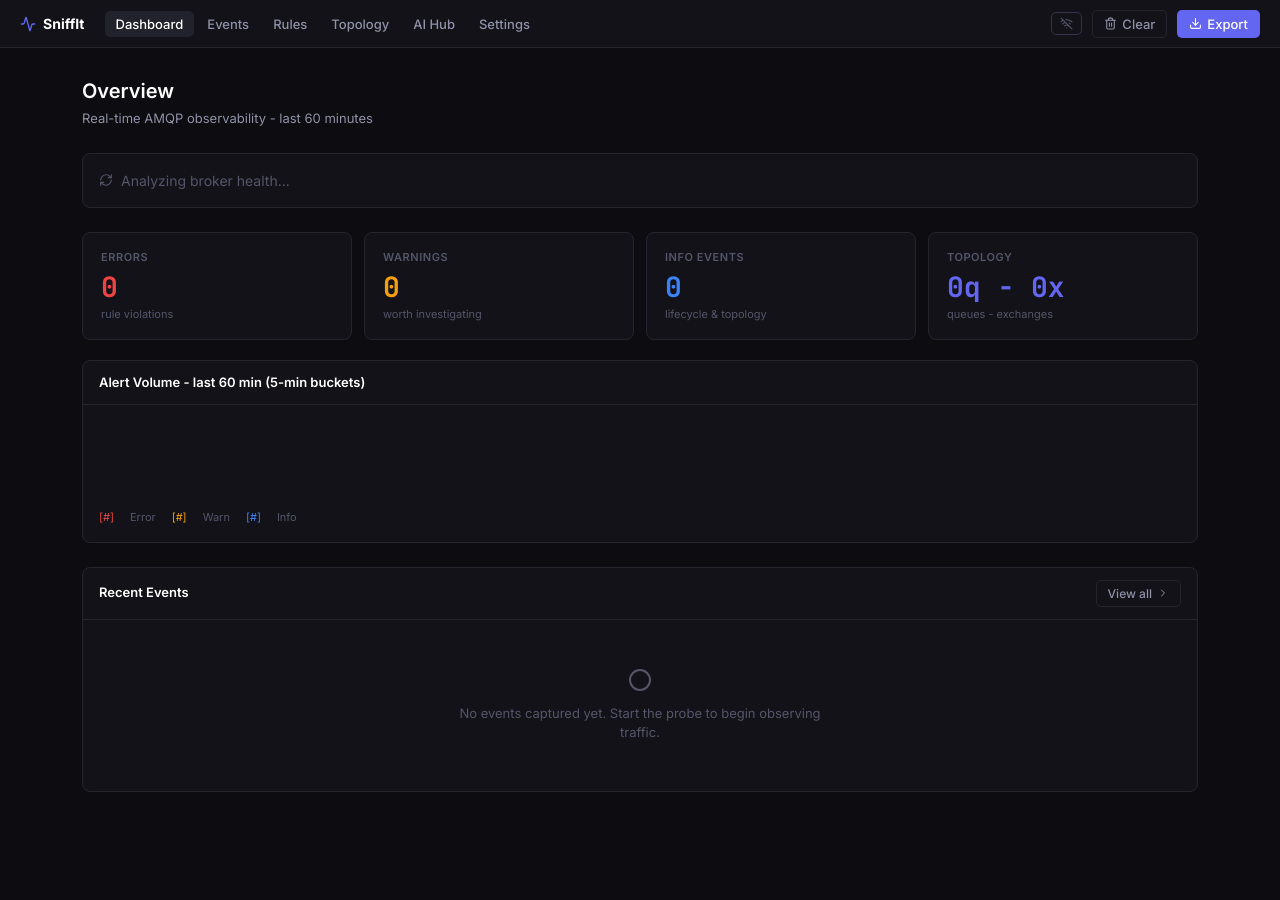
Test: SniffIt APP › performs global search
Click the button "Events" at (228, 24), box top-left (196, 10), bottom-right (260, 36)
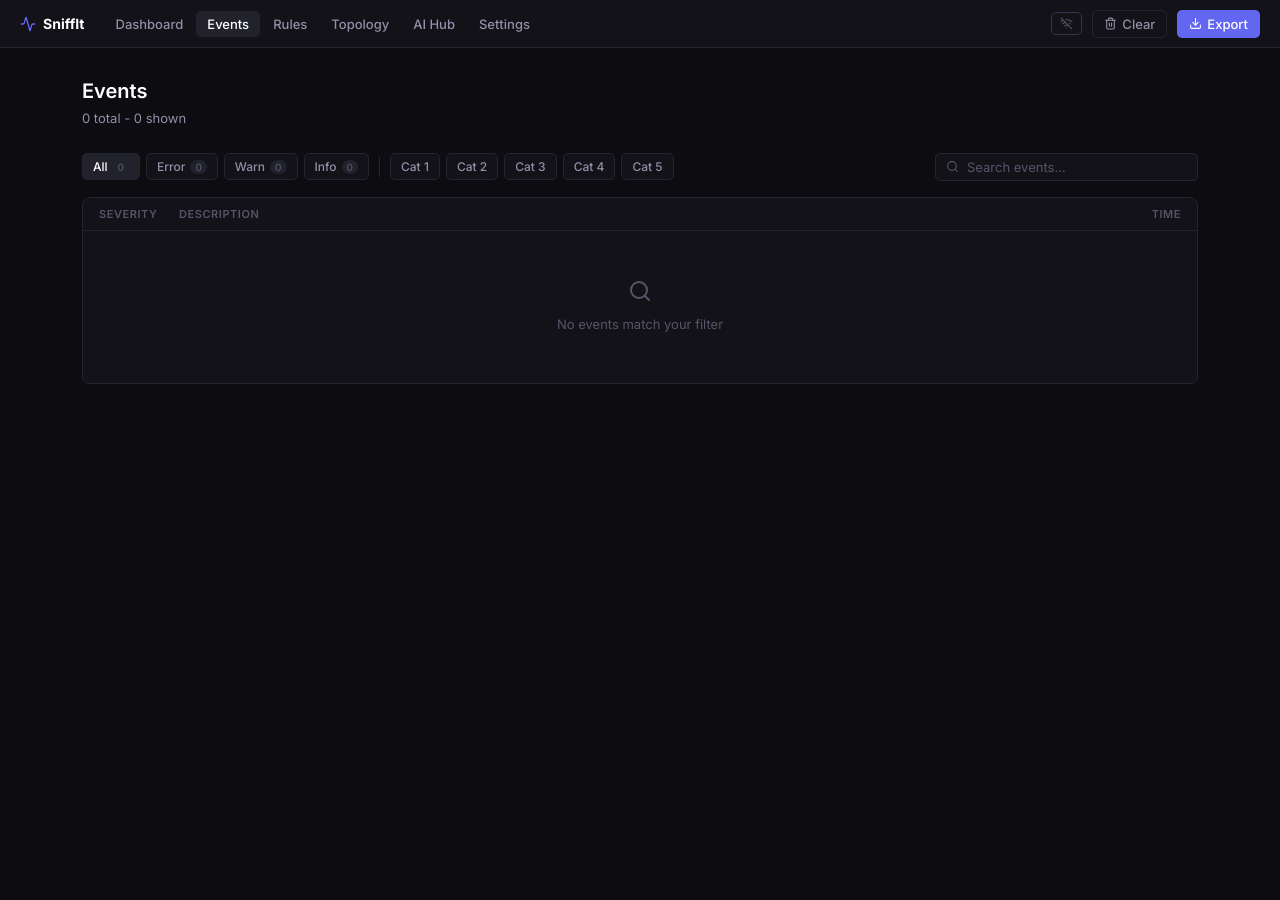
Type "Authentication" into the field with placeholder "Search events…" at (1077, 166), box top-left (967, 158), bottom-right (1187, 174)
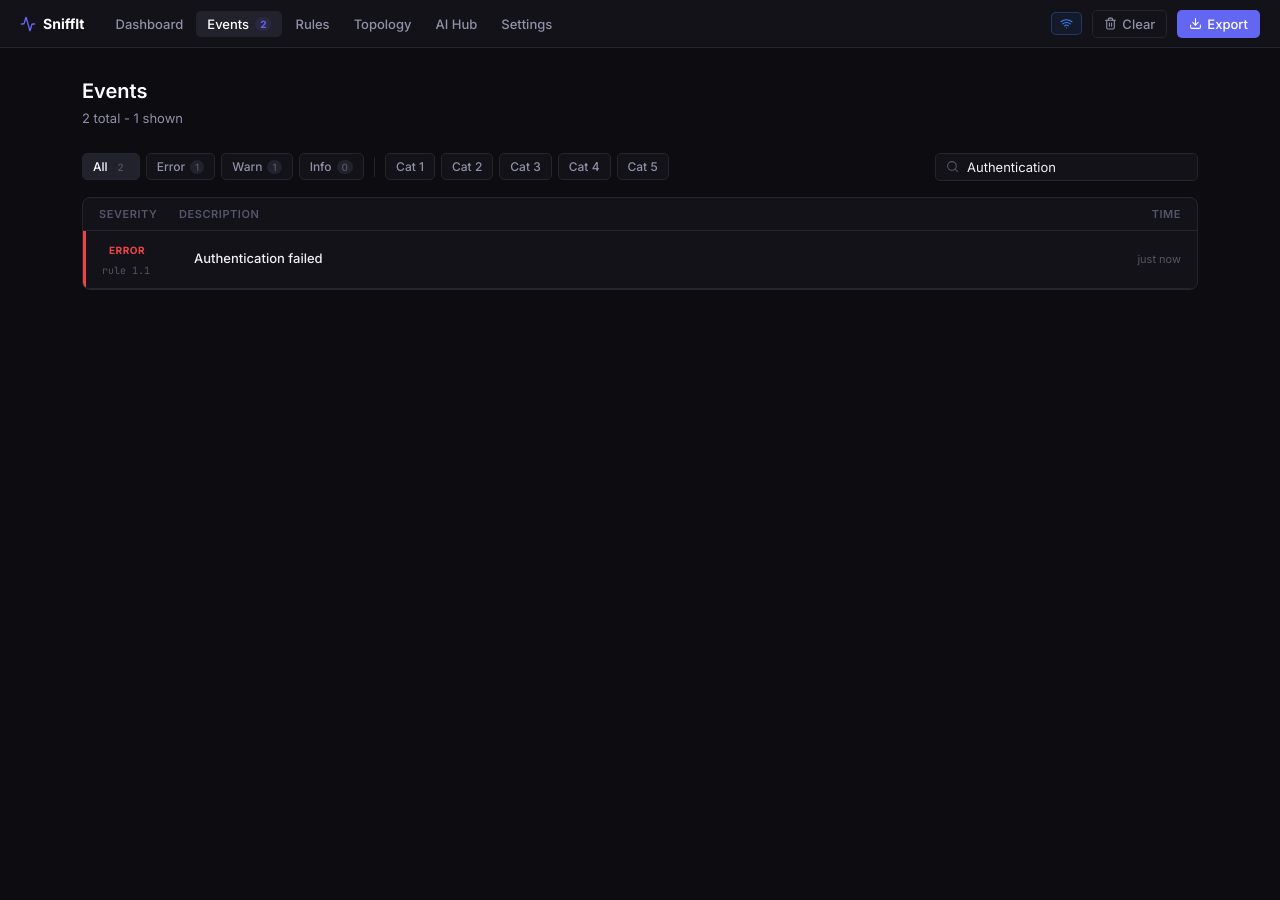
Expected: the text "Authentication failed" is shown, top-left (194, 250), bottom-right (323, 266)
